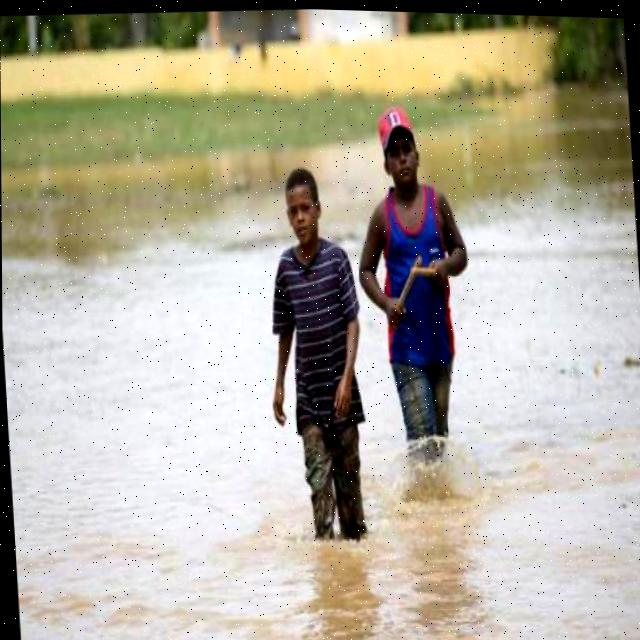civilian: (234, 152, 393, 565), (348, 88, 488, 480)
